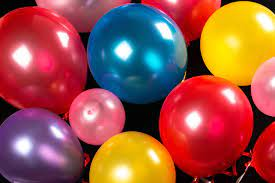Balloon: (85, 3, 187, 101), (160, 75, 253, 176), (1, 7, 86, 116), (1, 107, 85, 183), (199, 1, 275, 84), (89, 130, 177, 183), (70, 88, 125, 145), (251, 58, 275, 118)
